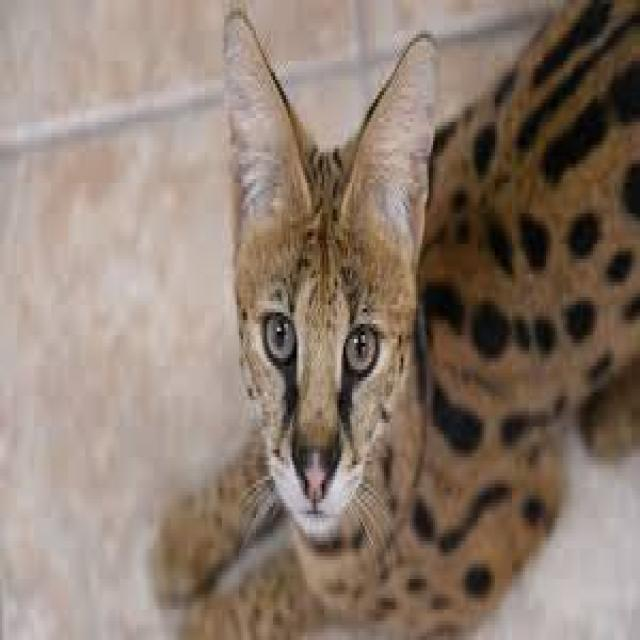cat: (188, 136, 436, 566)
